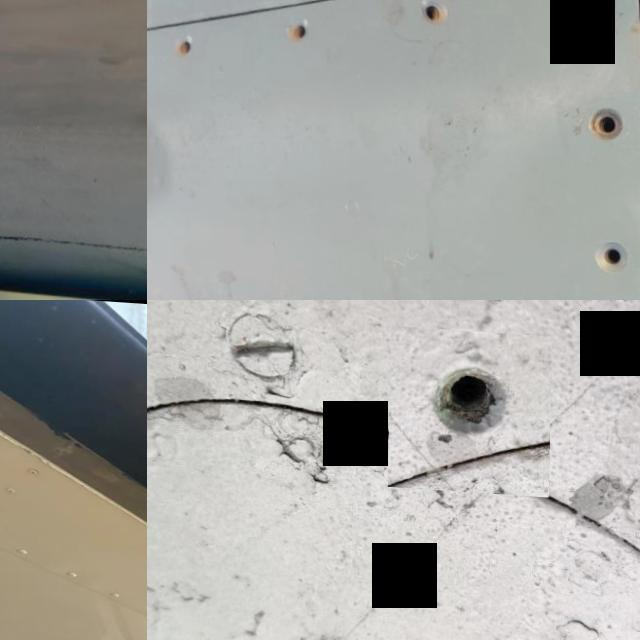Missing_Fastener: (389, 322, 553, 491), (569, 81, 640, 154), (582, 219, 640, 283), (271, 1, 326, 56), (161, 19, 208, 69), (406, 0, 464, 37)
